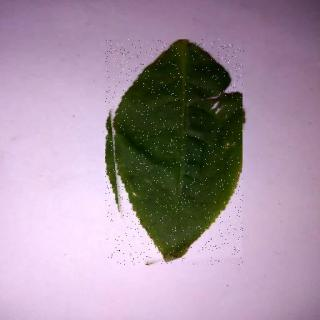Bird Eye Spot: (107, 40, 246, 266)
